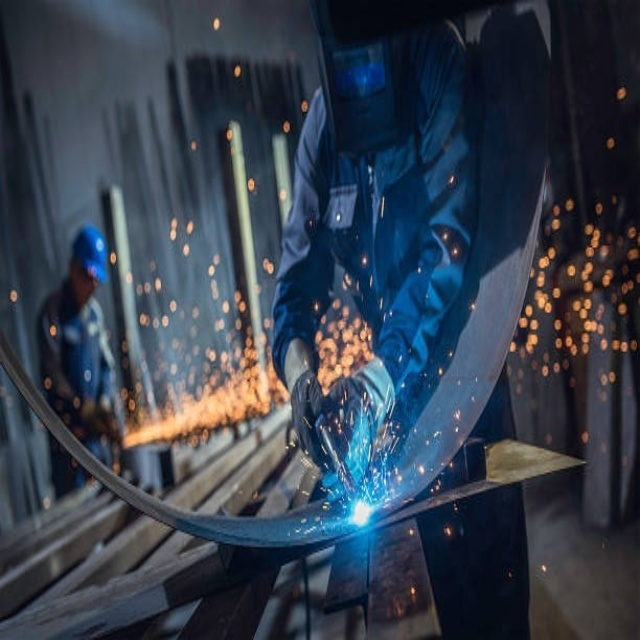Guantes: (315, 337, 399, 513), (277, 340, 321, 476)
